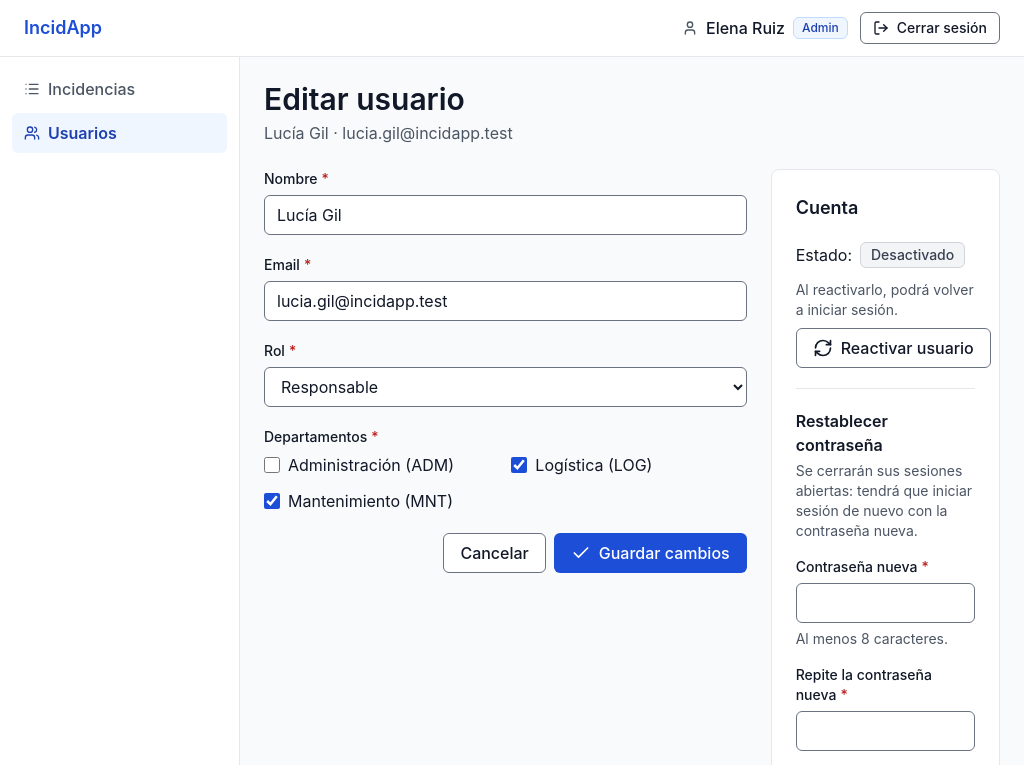
Test case: CA-02.20 · desactivar y reactivar › reactivar no pide confirmación y actualiza el estado
Check: the button "Desactivar usuario" is not shown
Click the button "Reactivar usuario": point(893, 348) [796, 328, 991, 368]
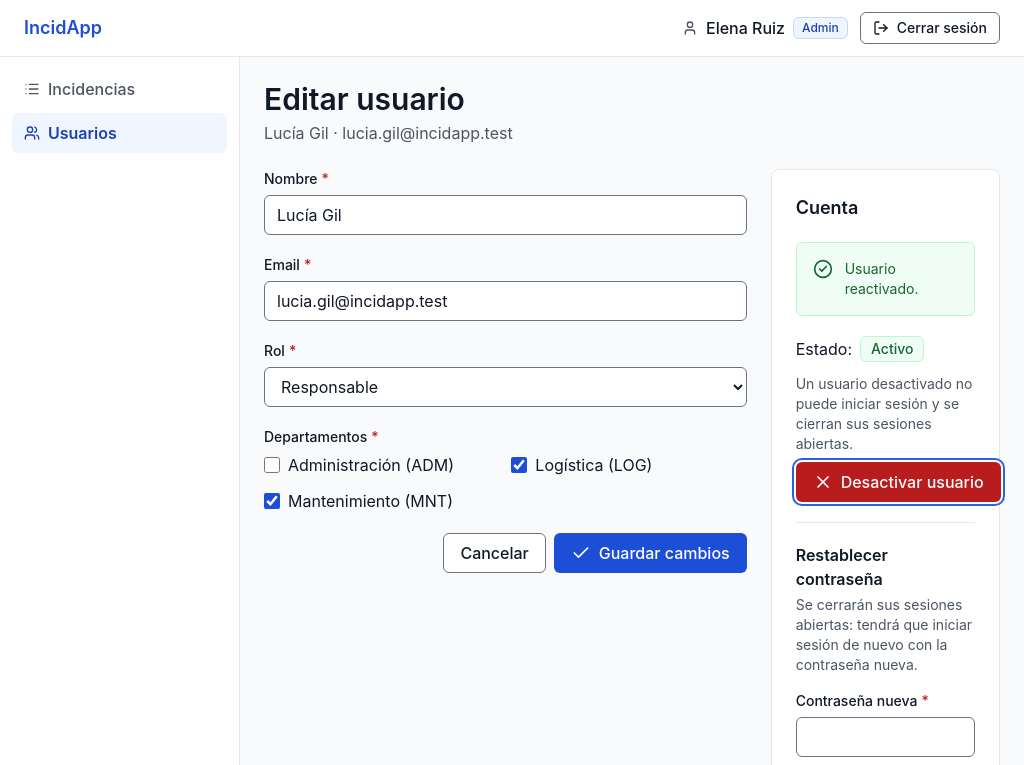
Check: the text "Usuario reactivado." is shown, box [845, 260, 918, 297]
Check: the button "Desactivar usuario" is shown, box [796, 462, 1001, 502]
